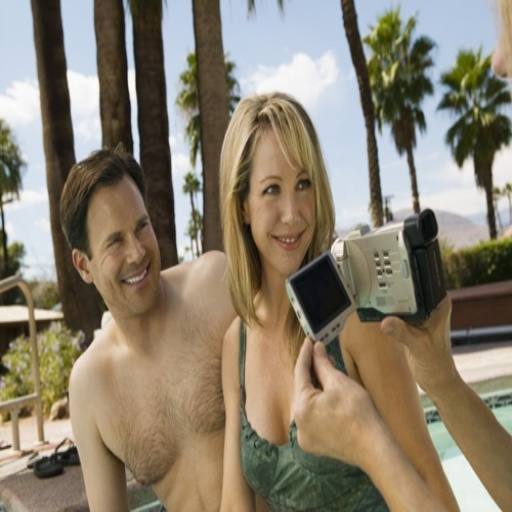hand: (287, 329, 394, 490), (377, 290, 458, 396)
